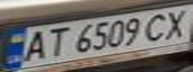0: (106, 17, 127, 48)
5: (90, 19, 112, 52)
6: (72, 20, 96, 54)
9: (121, 15, 148, 47)
A: (18, 28, 51, 63)
C: (139, 11, 175, 43)
T: (39, 25, 72, 58)
X: (157, 6, 193, 40)
